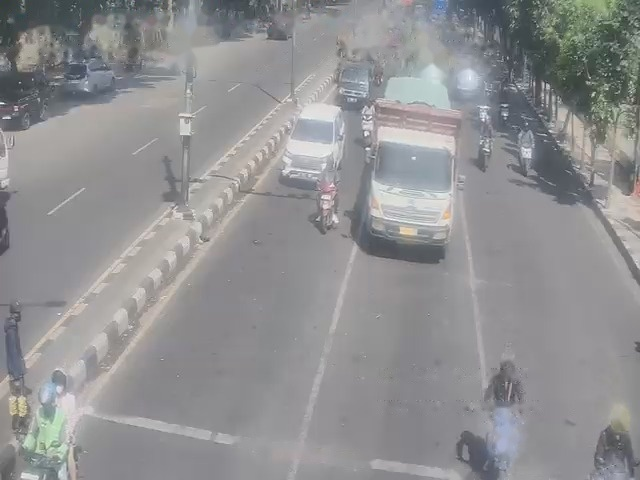Mobil: (281, 103, 339, 184), (338, 63, 372, 109)
Motor: (469, 404, 514, 470), (518, 122, 534, 175), (318, 191, 338, 230), (361, 100, 374, 139), (478, 137, 491, 170), (498, 102, 509, 126), (477, 105, 488, 124)
Truk: (374, 59, 459, 247)
